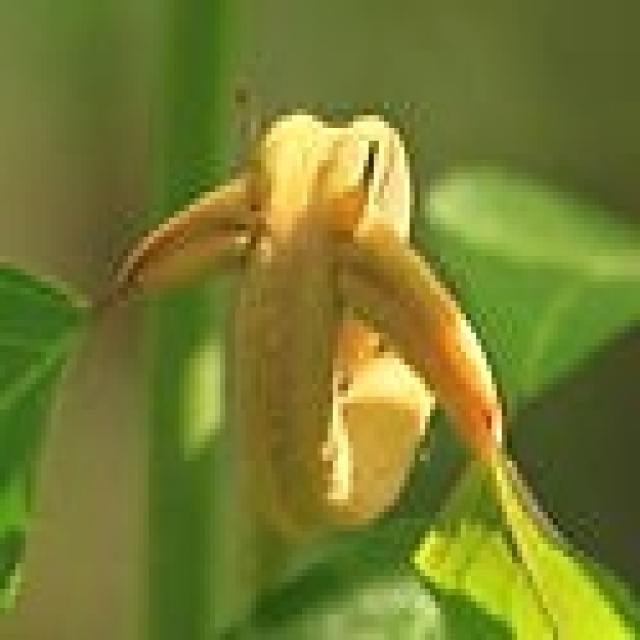Elderberry_rust: (208, 79, 495, 544)
